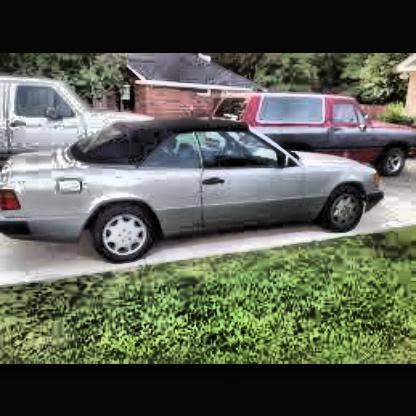Mercedes-Benz 300-Class Convertible 1993: (2, 115, 390, 269)
